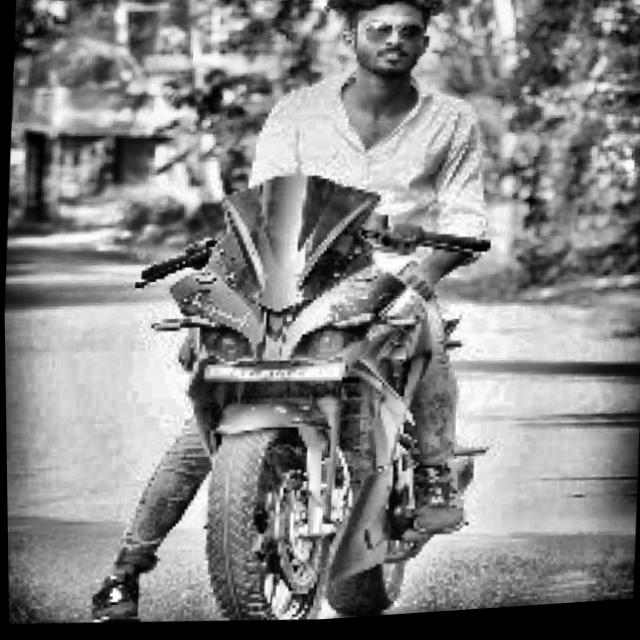motorcycle: (94, 146, 519, 635)
